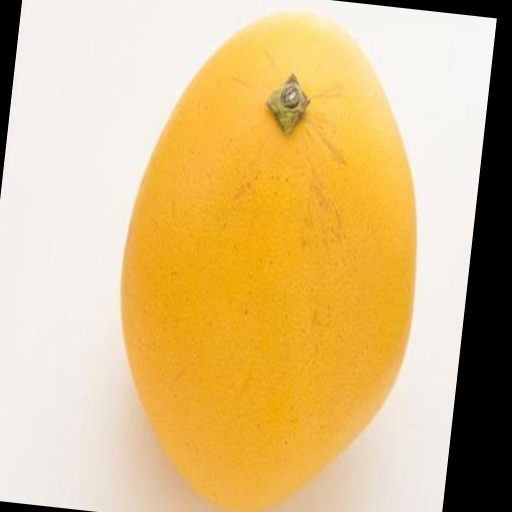fruit: (121, 14, 415, 511)
